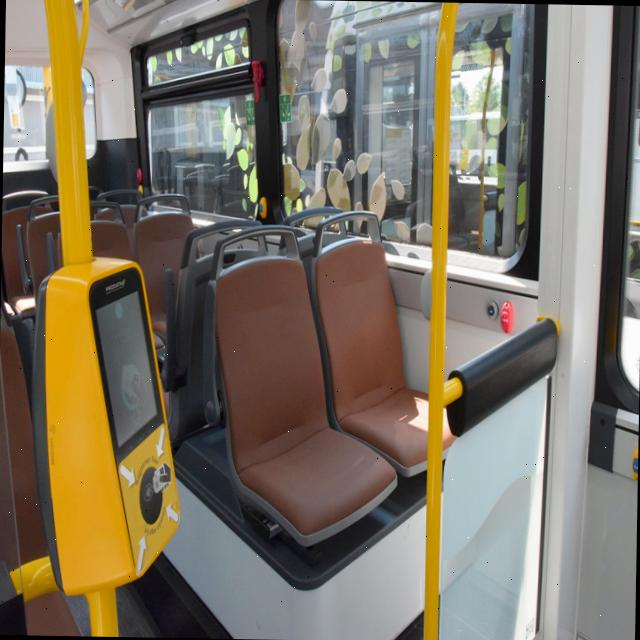empty-seat-frontal: (208, 217, 402, 548), (303, 208, 462, 478)
